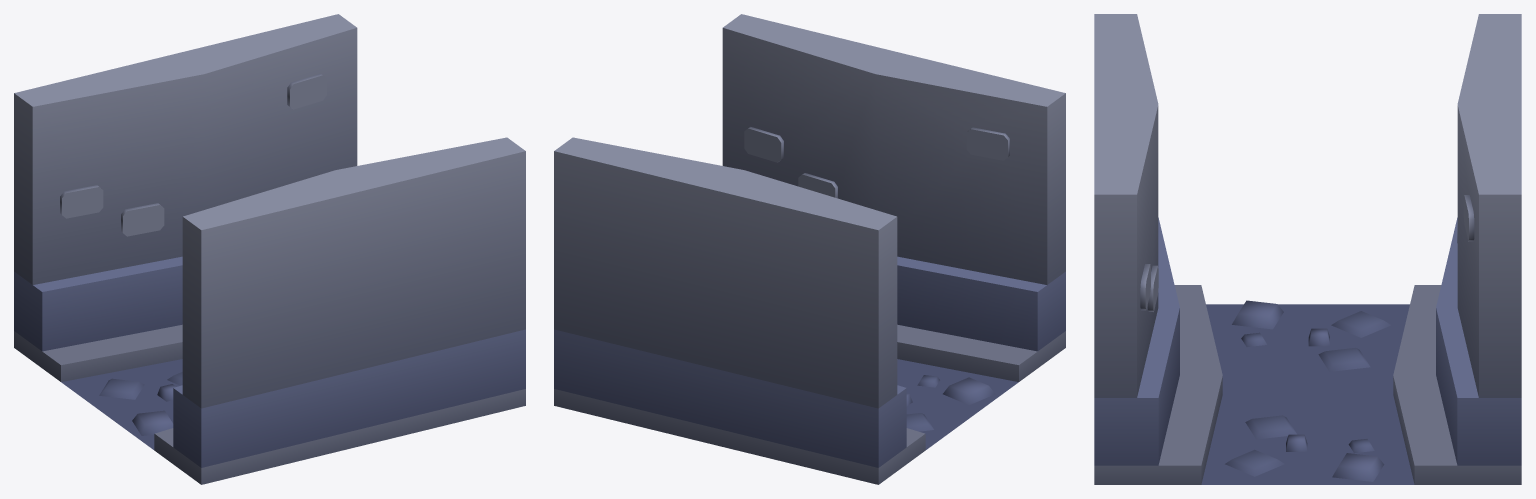
The model's file is corridor.fbx.
3 renders of one model, left to right at view 1: azimuth 30°, elevation 25°; view 2: azimuth 150°, elevation 25°; view 3: azimuth 270°, elevation 25°, orthographic. The views are drawn at different scales.
Visible parts, largest first — view 1: corridor; view 2: corridor; view 3: corridor.
Part boxes in pixels (x1=…): corridor: x1=14, y1=14, x2=525, y2=484; corridor: x1=554, y1=14, x2=1065, y2=484; corridor: x1=1094, y1=14, x2=1521, y2=484.
Bounding box in the file's own units: 400 × 300 × 400.
Materials: 1 (1 with a texture image).
